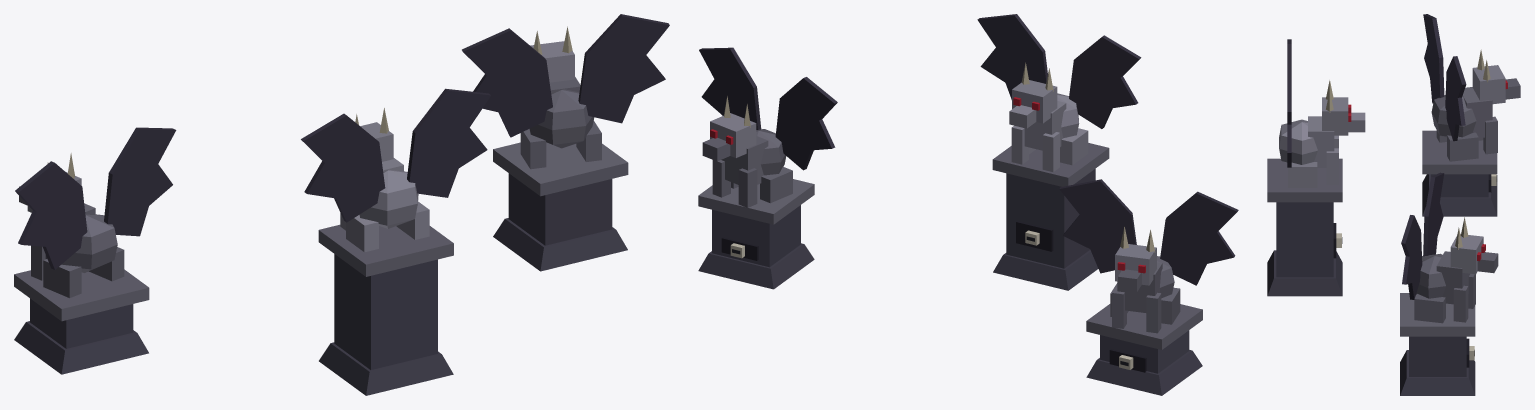
The model's file is Decor_VampireCrypt_Gargoyles.fbx.
The picture shows the model from 3 angles, left to right: view 1: azimuth 30°, elevation 25°; view 2: azimuth 150°, elevation 25°; view 3: azimuth 270°, elevation 25°; orthographic projection. The views are drawn at different scales.
Parts seen in each view (by area): view 1: Gargoyles_Body; view 2: Gargoyles_Body; view 3: Gargoyles_Body.
Boxes of the visible parts, x1,y1,x2,y2 form: Gargoyles_Body: [14, 14, 669, 395]; Gargoyles_Body: [698, 14, 1238, 395]; Gargoyles_Body: [1267, 14, 1520, 395].
Size of the model in its own units: 23.54 by 9.6 by 10.2.
